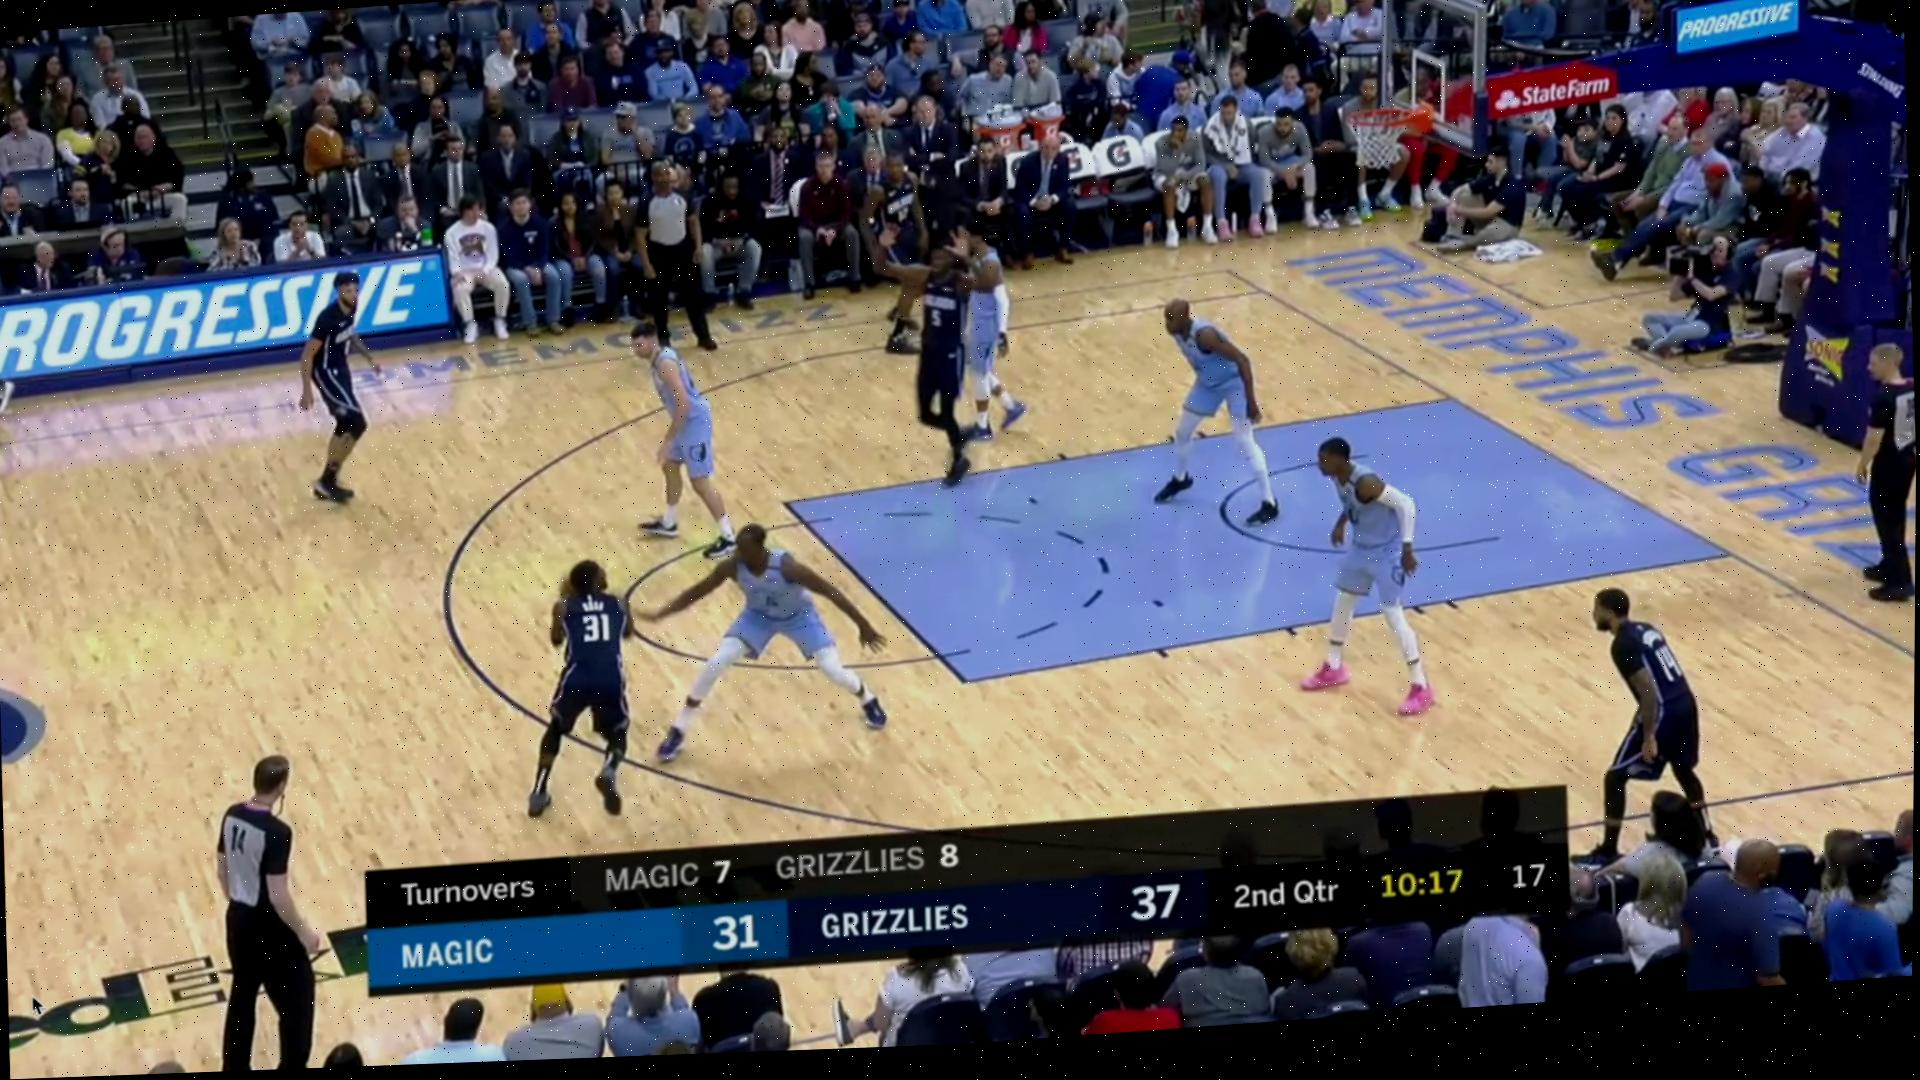no_foul: (539, 512, 870, 770)
